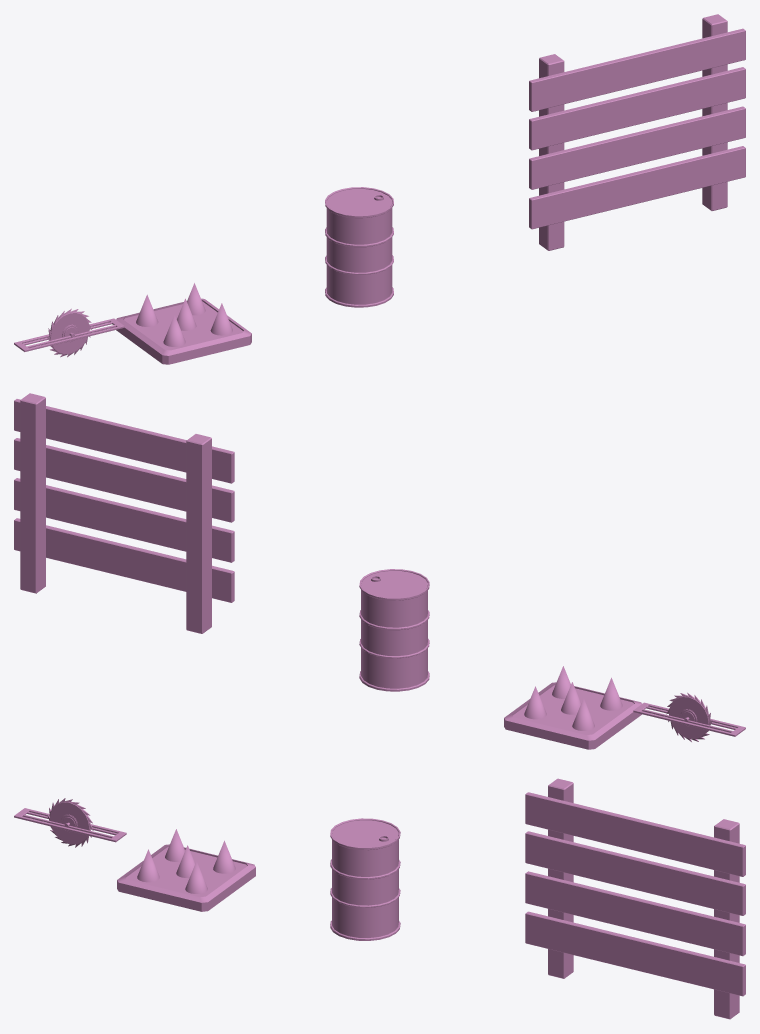
The model's file is Traps 1.fbx.
The picture shows the model from 3 angles, top to bottom: view 1: azimuth 30°, elevation 25°; view 2: azimuth 150°, elevation 25°; view 3: azimuth 330°, elevation 25°; orthographic projection.
Visible parts, largest first — view 1: Barrel_Body, Plank2, Plank, Plank3, Plank1, Base, Supporter, Supporter1, pCylinder1, pCube1; view 2: Barrel_Body, Plank2, Plank, Plank1, Plank3, Supporter1, Supporter, Base, pCylinder1, pCube1; view 3: Barrel_Body, Plank, Plank3, Plank1, Plank2, Base, Supporter1, Supporter, pCylinder1, pCube1, Spike, Spike4 (+1 smaller).
Boxes of the visible parts, <box> form: Barrel_Body: <box>325,187,393,307</box>; Plank2: <box>529,28,745,111</box>; Plank: <box>529,146,745,229</box>; Plank3: <box>529,106,745,189</box>; Plank1: <box>529,67,745,150</box>; Base: <box>116,298,251,364</box>; Supporter: <box>539,54,564,250</box>; Supporter1: <box>702,14,727,210</box>; pCylinder1: <box>46,308,91,357</box>; pCube1: <box>14,318,124,351</box>; Barrel_Body: <box>359,569,429,691</box>; Plank2: <box>14,399,234,483</box>; Plank: <box>14,518,234,602</box>; Plank1: <box>14,438,234,522</box>; Plank3: <box>14,478,234,562</box>; Supporter1: <box>20,393,45,593</box>; Supporter: <box>186,434,211,633</box>; Base: <box>504,682,641,749</box>; pCylinder1: <box>666,692,712,741</box>; pCube1: <box>633,702,745,736</box>; Barrel_Body: <box>330,818,400,940</box>; Plank: <box>525,911,745,996</box>; Plank3: <box>525,871,745,956</box>; Plank1: <box>525,831,745,915</box>; Plank2: <box>525,792,745,876</box>; Base: <box>117,844,255,911</box>; Supporter1: <box>714,819,739,1019</box>; Supporter: <box>548,778,573,978</box>; pCylinder1: <box>47,798,93,847</box>; pCube1: <box>14,808,126,842</box>; Spike: <box>213,840,235,873</box>; Spike4: <box>137,849,159,882</box>.
Bounding box in the file's own units: 8.04 × 2 × 1.
